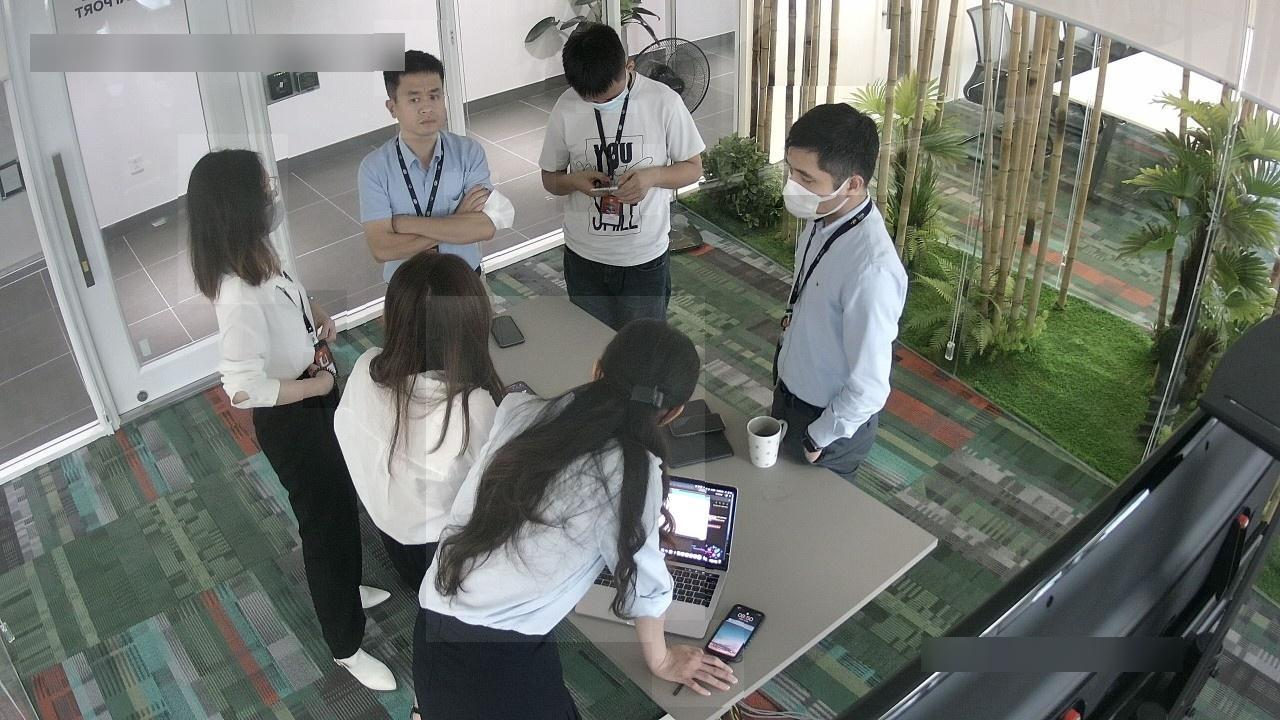mask: (774, 141, 862, 222), (248, 156, 288, 239), (576, 72, 637, 113)
no_apron: (653, 621, 745, 708), (611, 144, 661, 216), (557, 151, 610, 213), (303, 353, 349, 409), (444, 173, 500, 218), (306, 290, 348, 347)
no_gloves: (426, 296, 705, 642), (366, 239, 499, 474), (179, 135, 289, 305), (765, 86, 897, 195), (545, 23, 638, 101), (375, 21, 450, 97)
no_hairnet: (396, 70, 447, 138)
